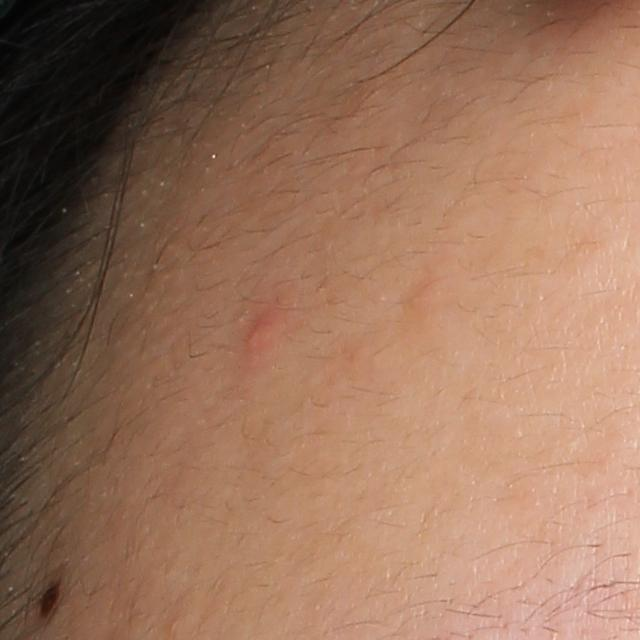nevus: (34, 579, 63, 625)
papule: (243, 288, 293, 368)
